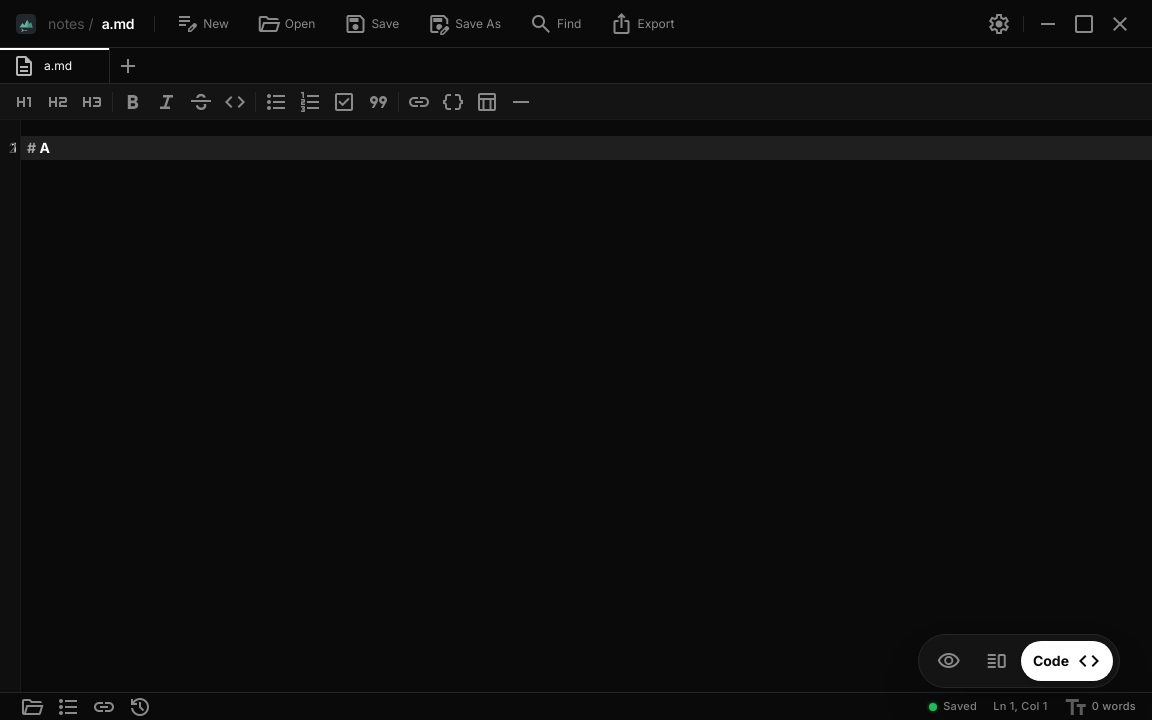
Scenario: App external conflict › Keep my version writes the buffer over the other change
Expected: the field with class "cm-content" is shown, [21, 136, 1151, 160]
Click the button named "bold": {"x": 133, "y": 102} [117, 86, 149, 118]
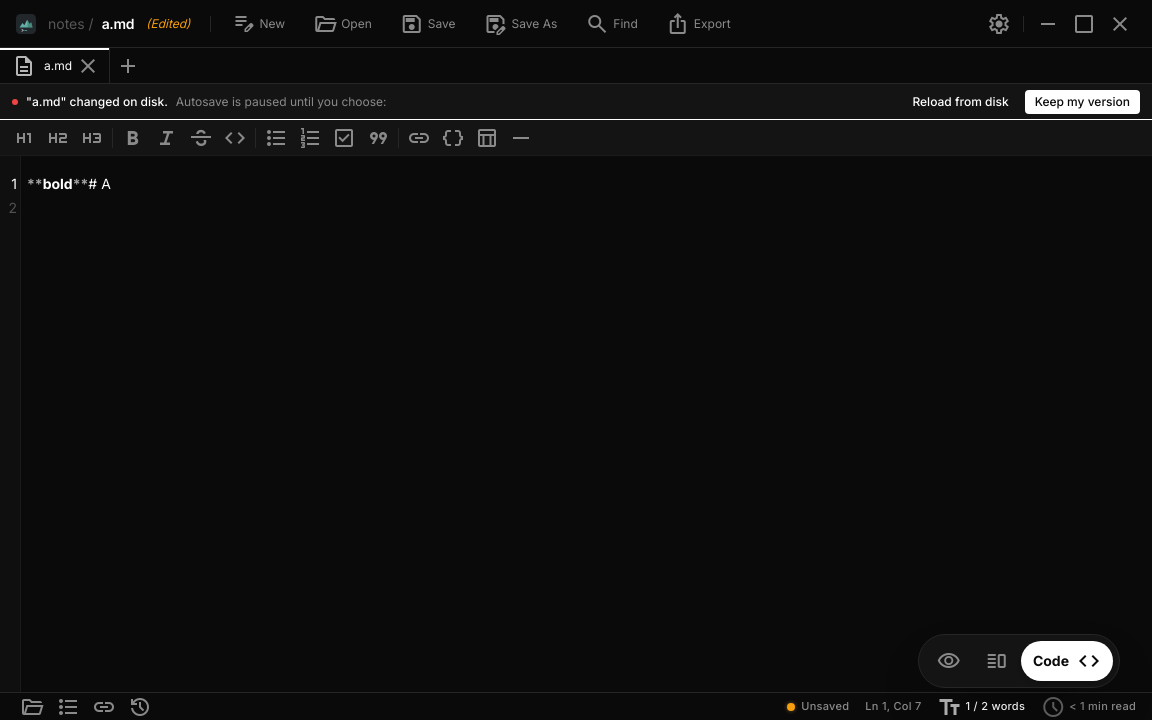
Expected: the text "Unsaved" is shown, [801, 698, 849, 715]
Click the button "Keep my version": {"x": 1082, "y": 102} [1025, 90, 1140, 114]
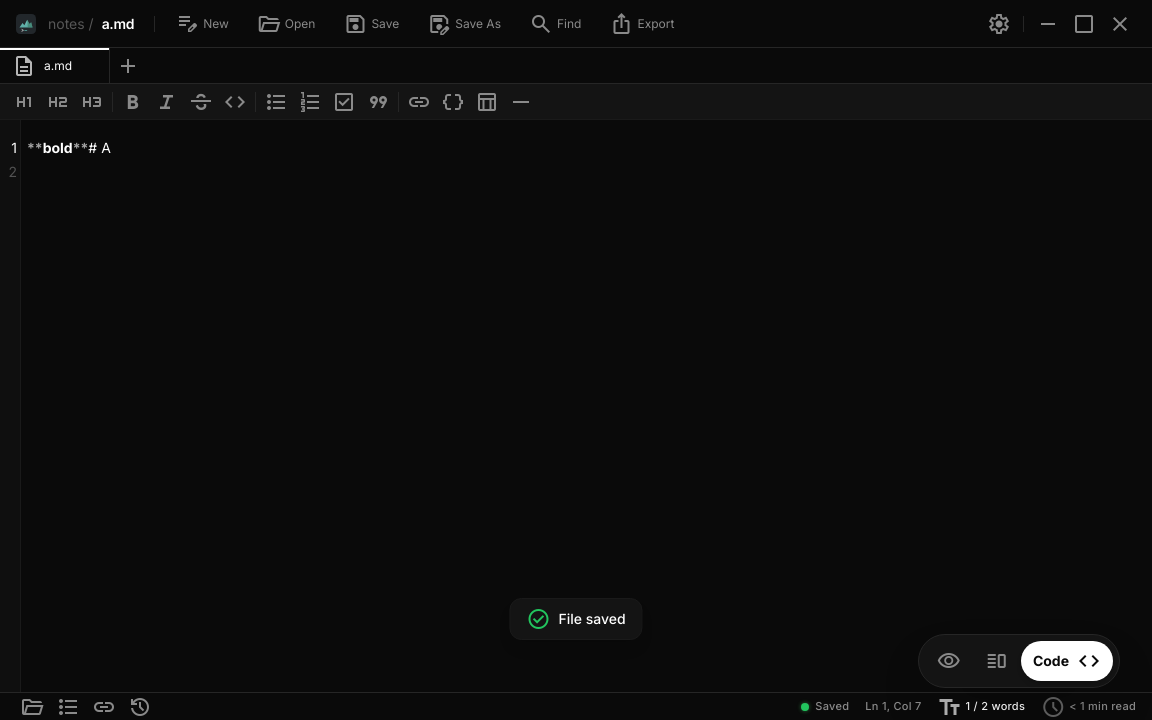
Expected: the button "Keep my version" is gone
